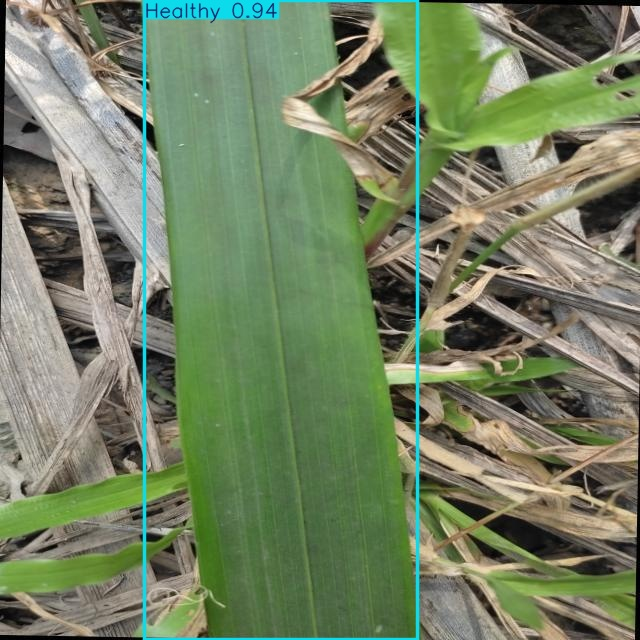Healthy: (145, 0, 418, 640)
